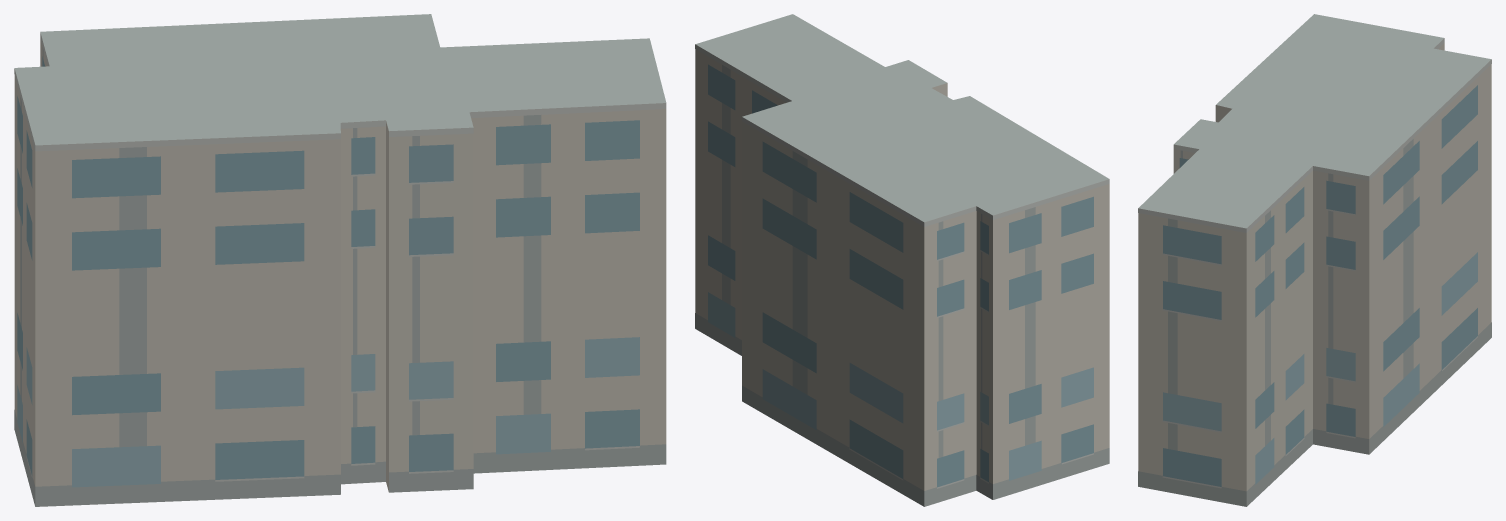
Rendered from survey-upis-32748590.glb.
The picture shows the model from 3 angles, left to right: view 1: azimuth 30°, elevation 25°; view 2: azimuth 150°, elevation 25°; view 3: azimuth 270°, elevation 25°; orthographic projection. The views are drawn at different scales.
Parts seen in each view (by area): view 1: survey-upis-32748590.tmp; view 2: survey-upis-32748590.tmp; view 3: survey-upis-32748590.tmp.
Boxes of the visible parts, <box> form: survey-upis-32748590.tmp: <box>14,14,666,506</box>; survey-upis-32748590.tmp: <box>695,14,1109,506</box>; survey-upis-32748590.tmp: <box>1138,14,1491,506</box>.
Bounding box in the file's own units: 24.37 × 14.75 × 16.99.
